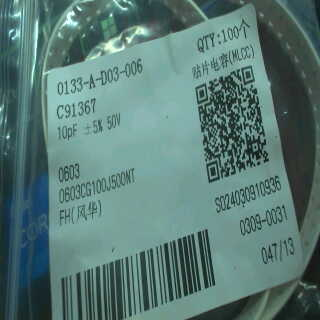10pF: (55, 123, 82, 142)
